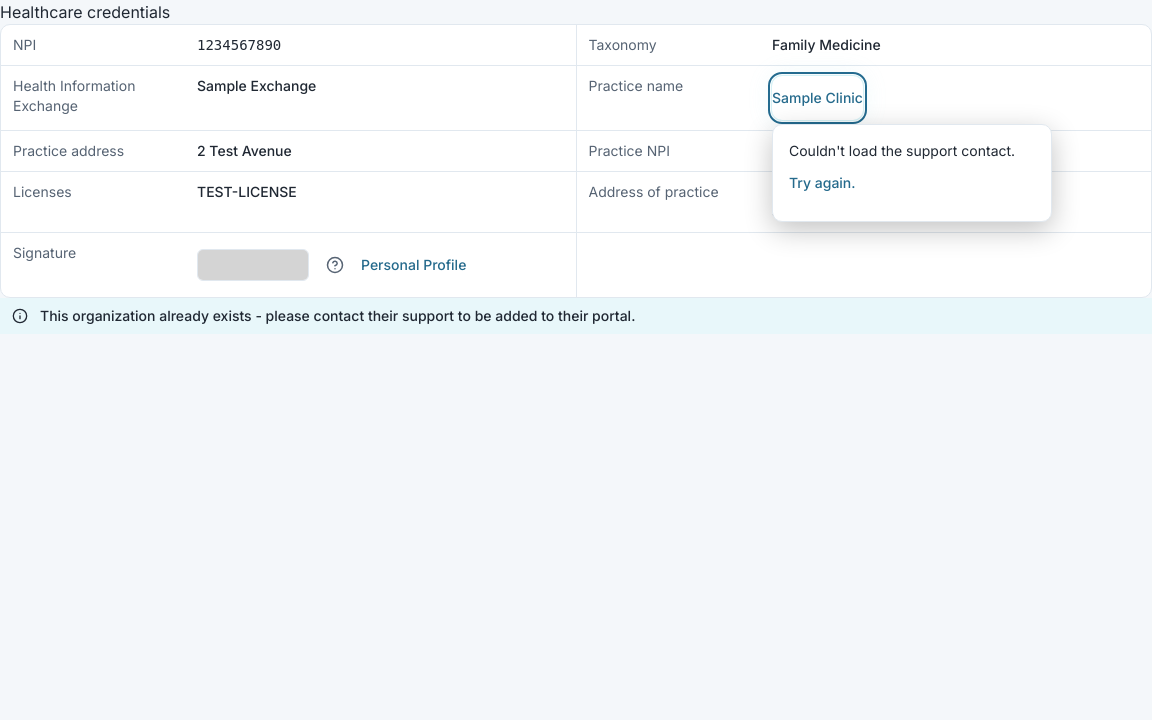
Test: registered practice support › contains support failure 500 locally and retries only support
Check: the text "This organization already exists - please contact their support to be added to their portal." is shown, box left=40, top=307, right=635, bottom=324
Check: the text "Couldn't load the support contact." is shown, box left=789, top=141, right=1015, bottom=161
Click the button "Try again.". click: {"x": 822, "y": 183}
box: left=789, top=161, right=856, bottom=205
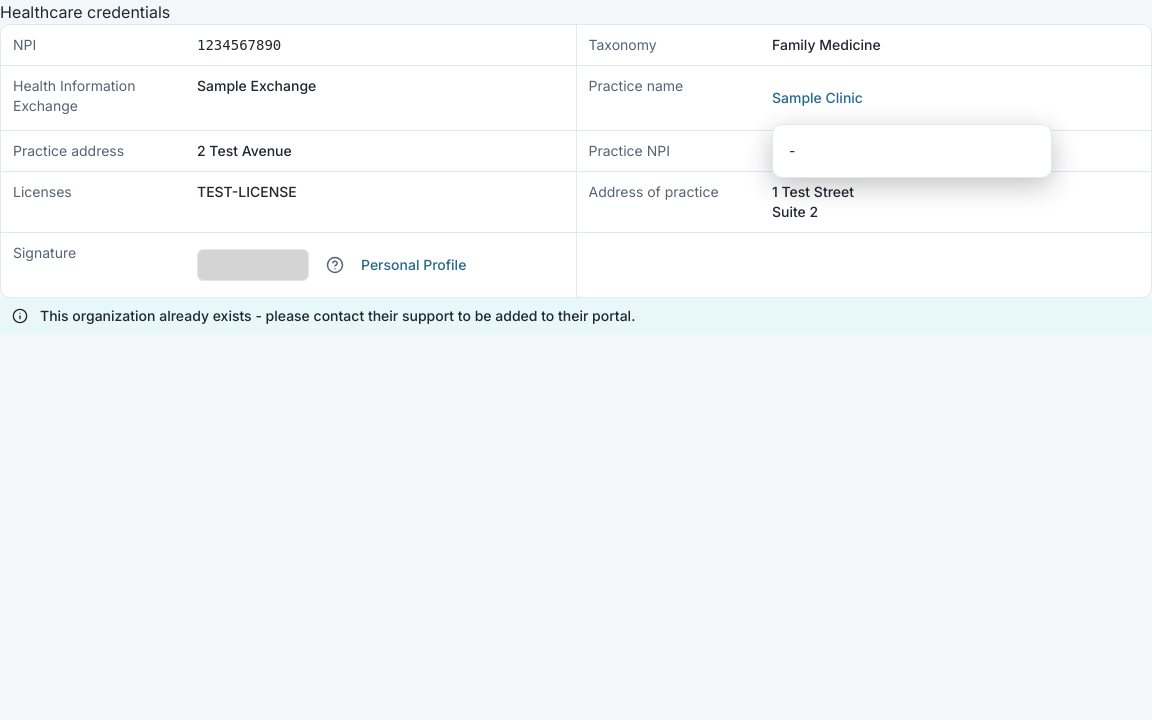
Check: the table is shown, box left=1, top=25, right=1151, bottom=297
Check: the text "-" is shown, box left=789, top=142, right=796, bottom=159
